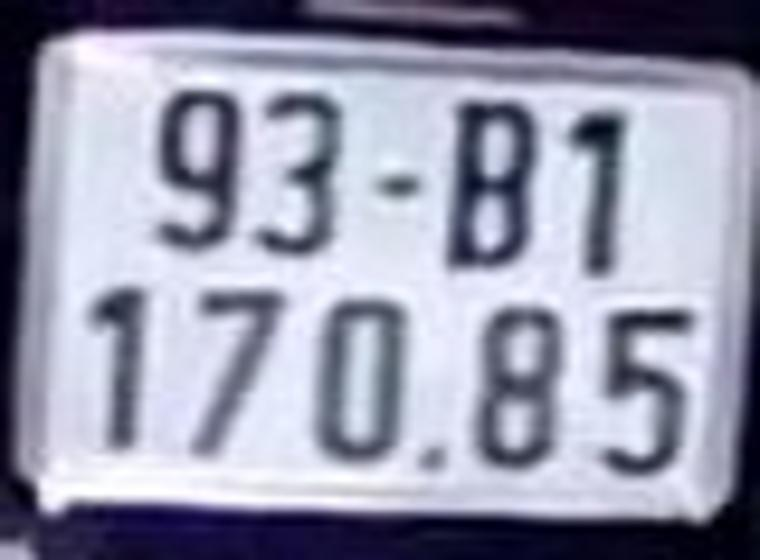-: (378, 167, 424, 202)
.: (414, 434, 450, 478)
0: (316, 287, 410, 464)
1: (566, 104, 630, 287), (84, 280, 151, 449)
3: (261, 87, 348, 255)
5: (601, 306, 694, 477)
7: (188, 280, 286, 448)
8: (478, 295, 564, 476)
9: (149, 86, 242, 243)
B: (447, 92, 533, 272)
